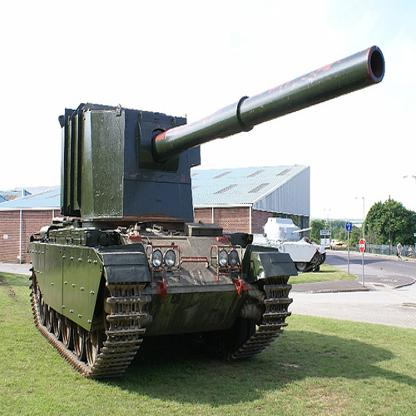Tank: (25, 100, 300, 369)
